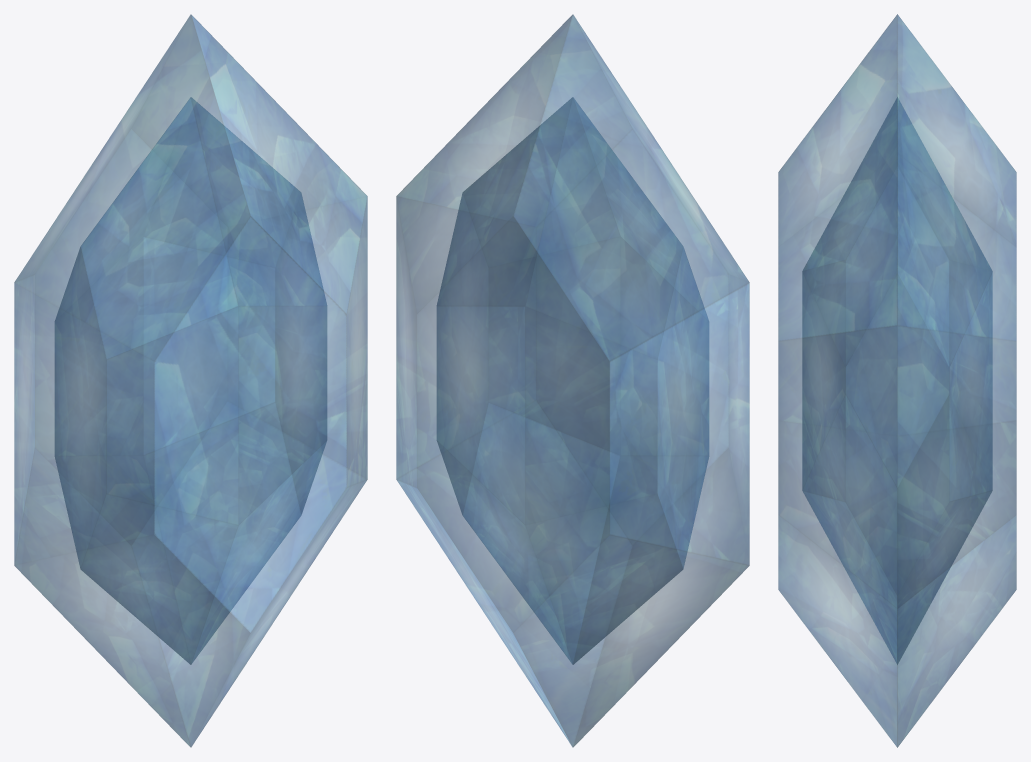
The model's file is CrystalBlue.obj.
The picture shows the model from 3 angles, left to right: view 1: azimuth 30°, elevation 25°; view 2: azimuth 150°, elevation 25°; view 3: azimuth 270°, elevation 25°; orthographic projection.
Visible parts, largest first — view 1: Default_Layer; view 2: Default_Layer; view 3: Default_Layer.
Part boxes in pixels (<box>): Default_Layer: <box>14,14,367,747</box>; Default_Layer: <box>396,14,749,747</box>; Default_Layer: <box>778,14,1016,747</box>.
Bounding box in the file's own units: 0.4653 × 0.923 × 0.2719.
